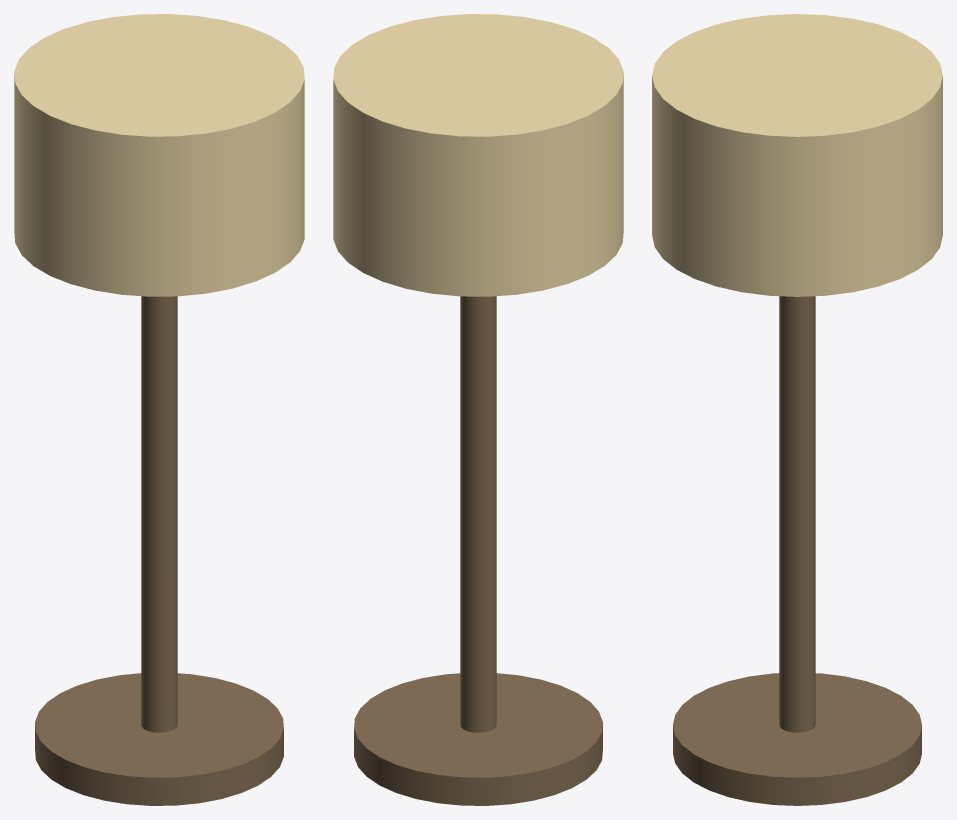
The model's file is lamp.glb.
The picture shows the model from 3 angles, left to right: view 1: azimuth 30°, elevation 25°; view 2: azimuth 150°, elevation 25°; view 3: azimuth 270°, elevation 25°; orthographic projection.
Size of the model in its own units: 0.56 by 1.44 by 0.56.
